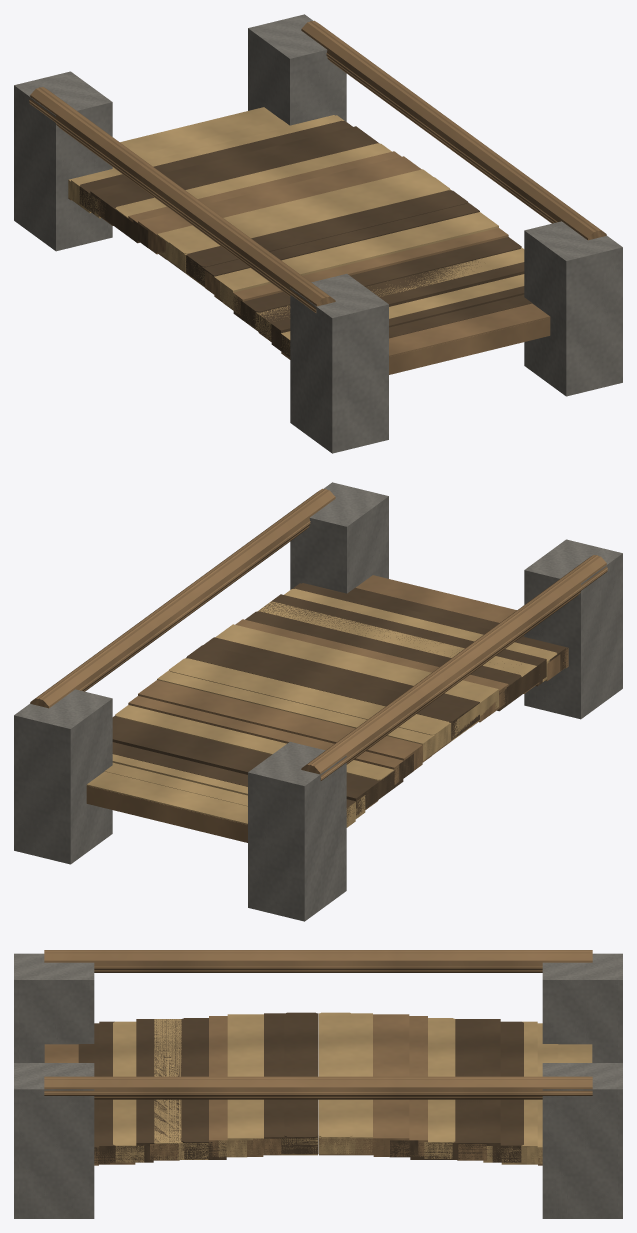
Rendered from StoneBridge.fbx.
The picture shows the model from 3 angles, top to bottom: view 1: azimuth 30°, elevation 25°; view 2: azimuth 150°, elevation 25°; view 3: azimuth 270°, elevation 25°; orthographic projection. The views are drawn at different scales.
Parts seen in each view (by area): view 1: StoneBridgeDetail0, StoneBridgeDetail1, StoneBridgeDetail2; view 2: StoneBridgeDetail0, StoneBridgeDetail1, StoneBridgeDetail2; view 3: StoneBridgeDetail0, StoneBridgeDetail1, StoneBridgeDetail2.
Boxes of the visible parts, bbox=[...] form: StoneBridgeDetail0: bbox=[16, 15, 619, 452]; StoneBridgeDetail1: bbox=[14, 14, 622, 453]; StoneBridgeDetail2: bbox=[29, 53, 600, 359]; StoneBridgeDetail0: bbox=[17, 483, 620, 920]; StoneBridgeDetail1: bbox=[14, 482, 622, 921]; StoneBridgeDetail2: bbox=[34, 521, 607, 827]; StoneBridgeDetail0: bbox=[14, 950, 622, 1218]; StoneBridgeDetail1: bbox=[14, 951, 622, 1218]; StoneBridgeDetail2: bbox=[44, 966, 592, 1164].
Bounding box in the file's own units: 330 × 154 × 622.
1 material, 1 textured.
